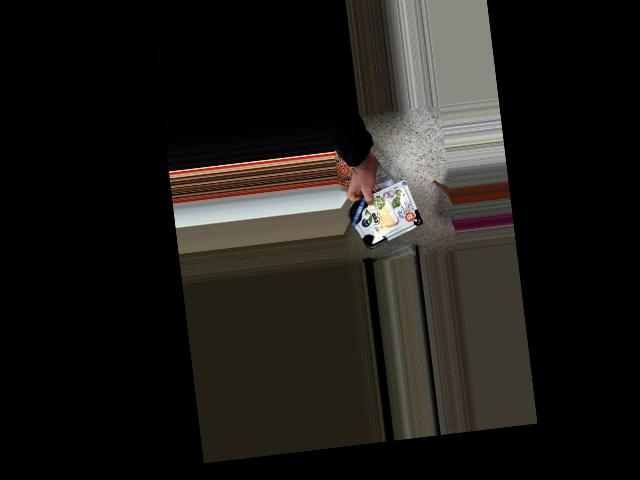cheese: (351, 189, 419, 244)
